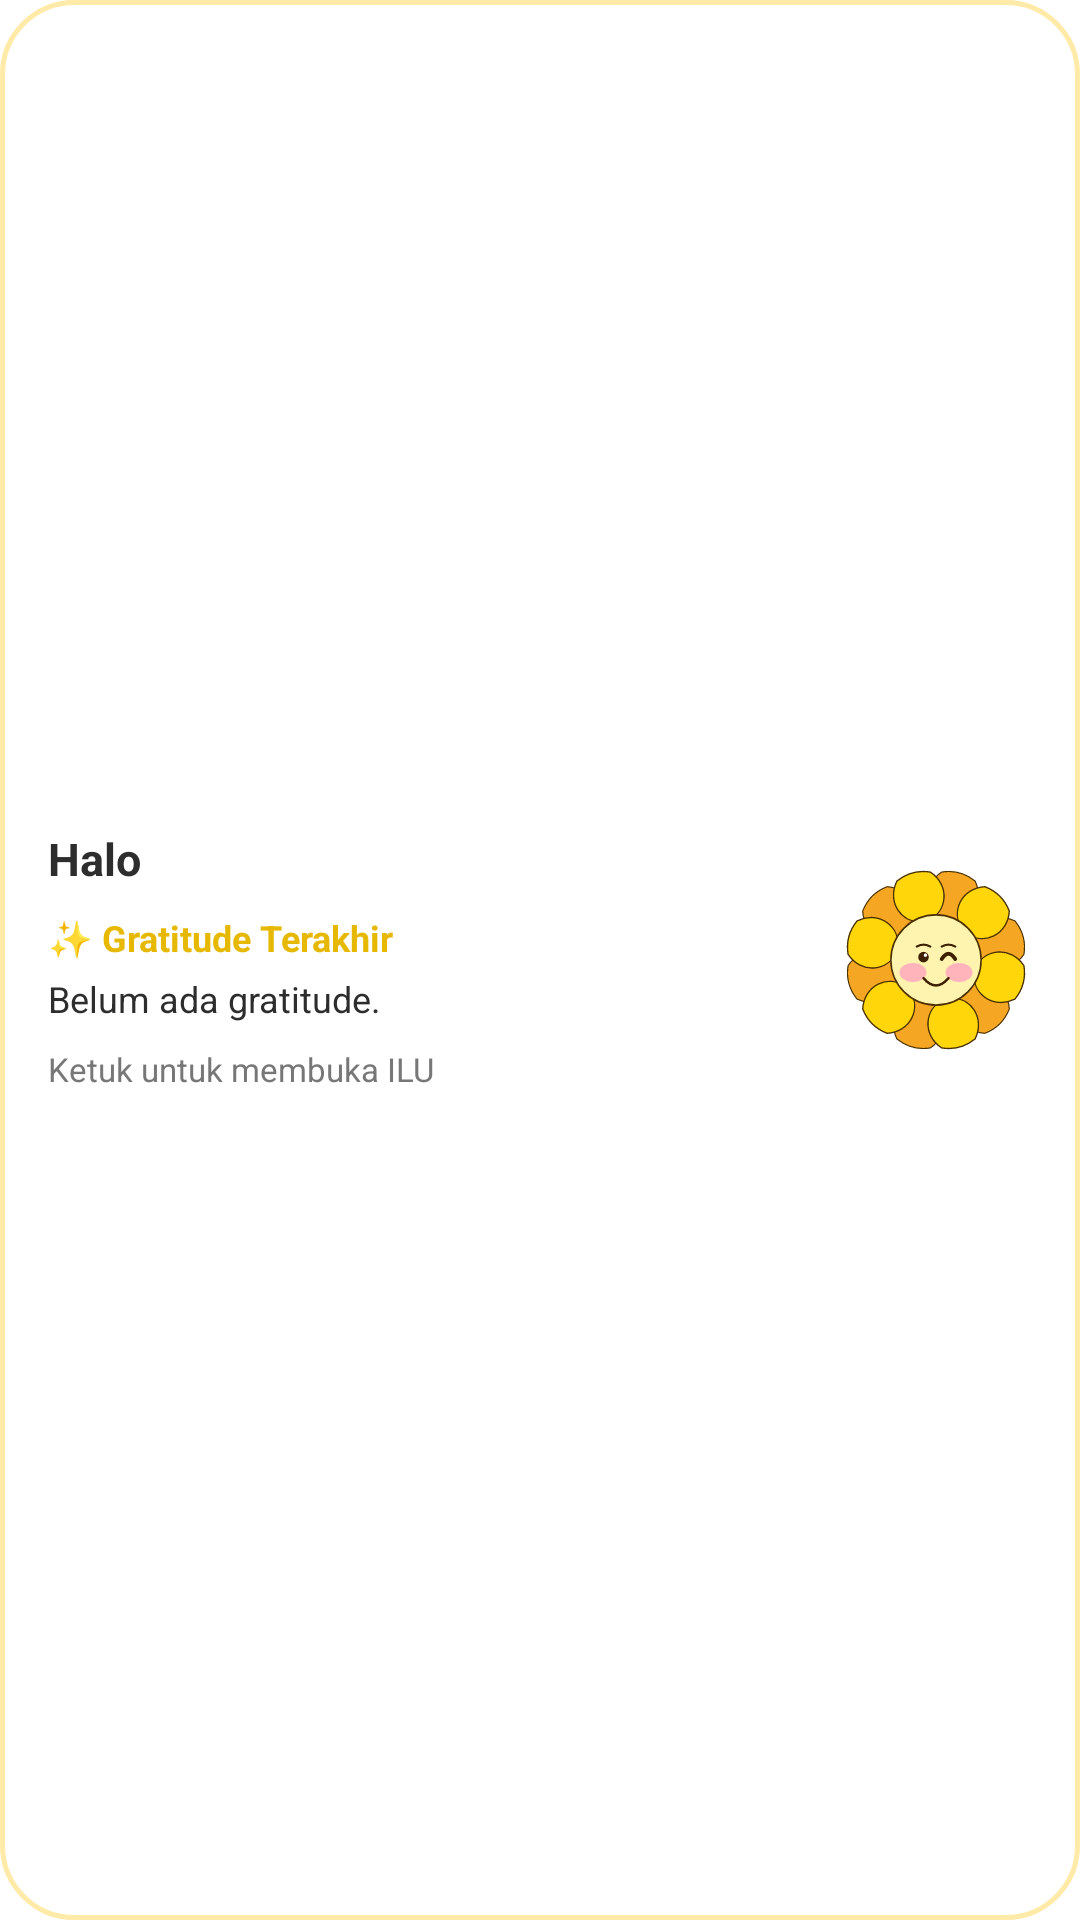

Where to tap for icons on this 1080 × 1920 app screen, as [x,y]:
ILU Mascot: [936,960]
